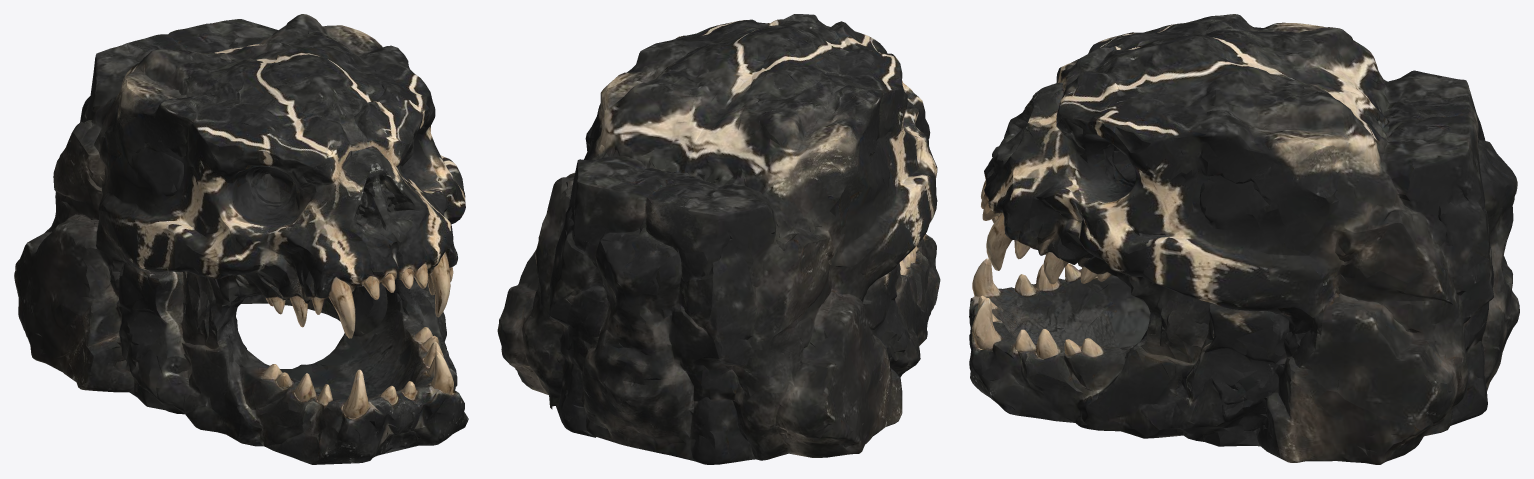
Rendered from sv_mouthcave.glb.
The picture shows the model from 3 angles, left to right: view 1: azimuth 30°, elevation 25°; view 2: azimuth 150°, elevation 25°; view 3: azimuth 270°, elevation 25°; orthographic projection. The views are drawn at different scales.
Bounding box in the file's own units: 1.48 × 1.26 × 1.9.
1 material, 1 textured.
